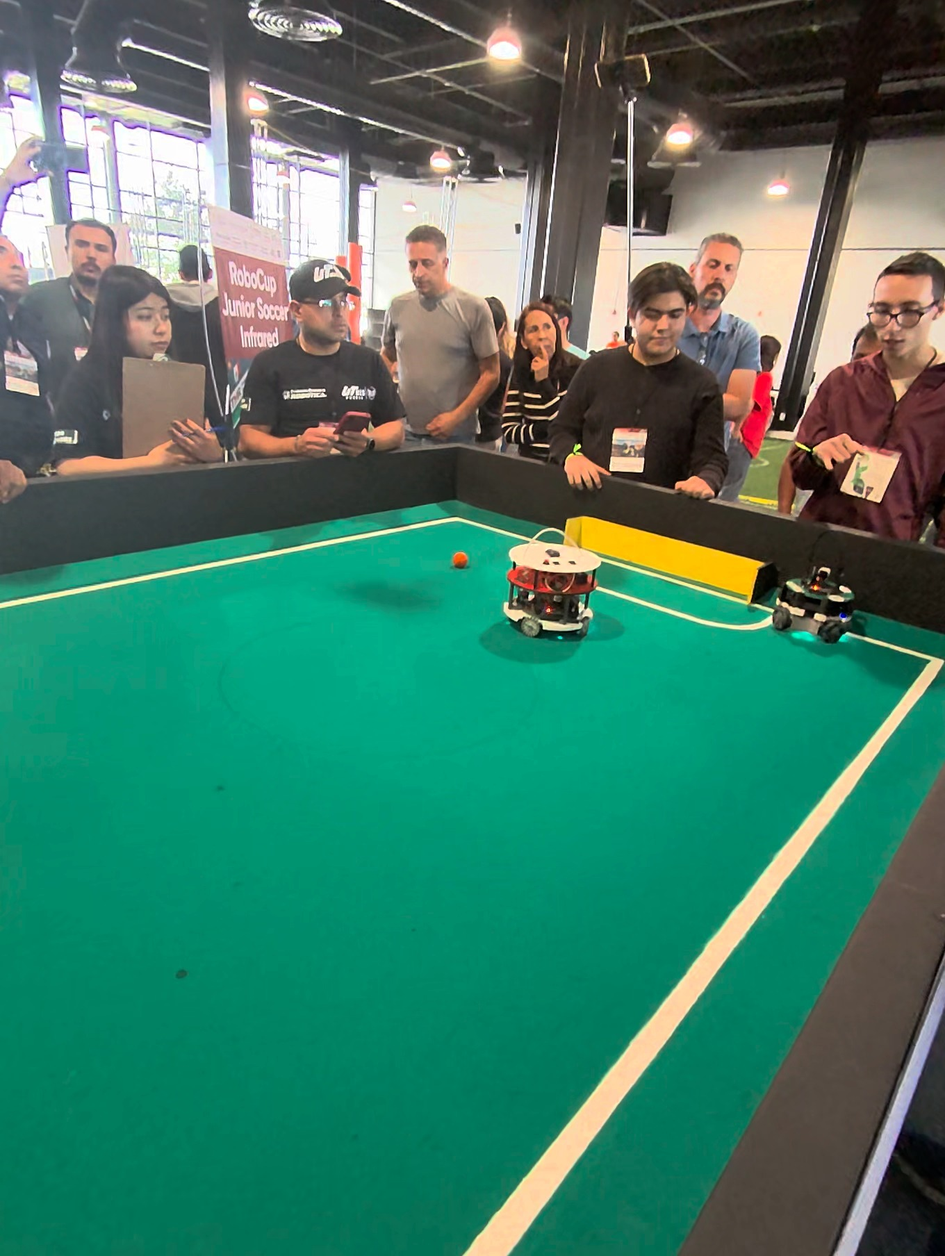Robot: (502, 523, 598, 652), (767, 527, 861, 650)
pelota: (454, 551, 469, 568)
